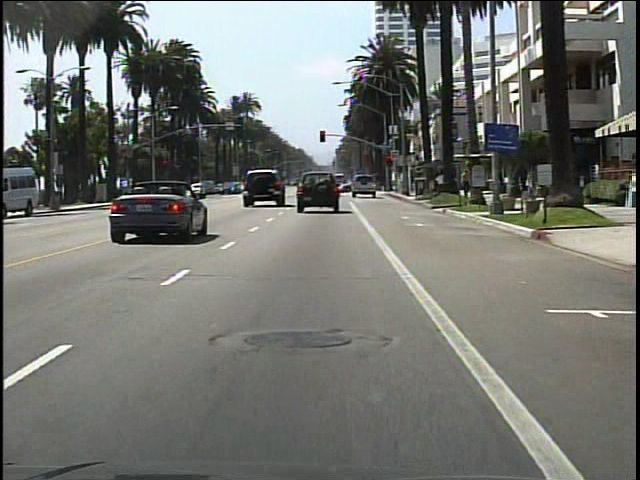person: (432, 170, 447, 196)
